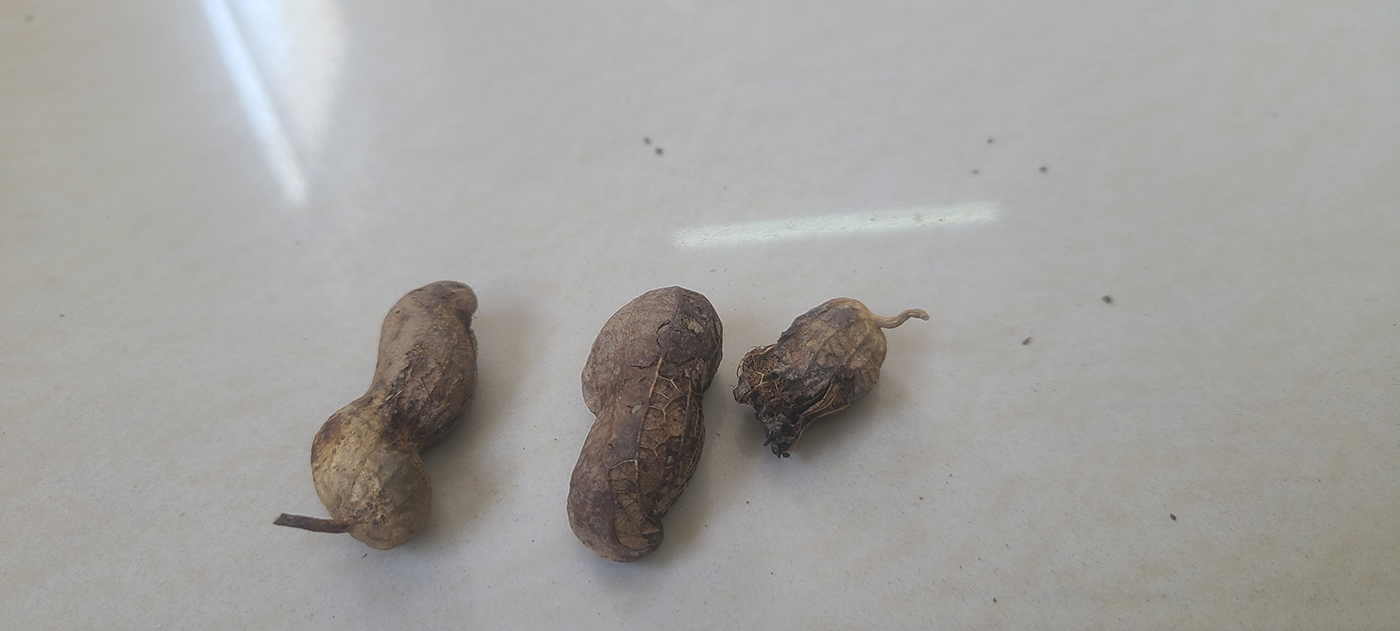l: (311, 279, 479, 547), (568, 287, 717, 564), (732, 292, 891, 458)
